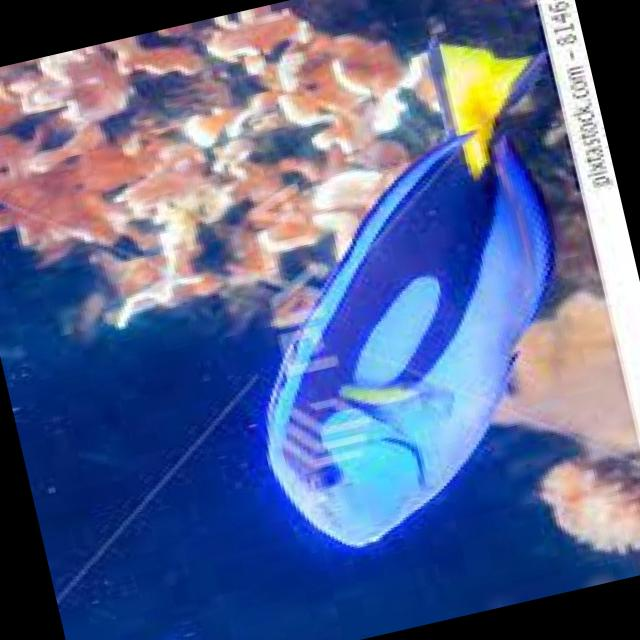BlueTang: (194, 28, 610, 556)
